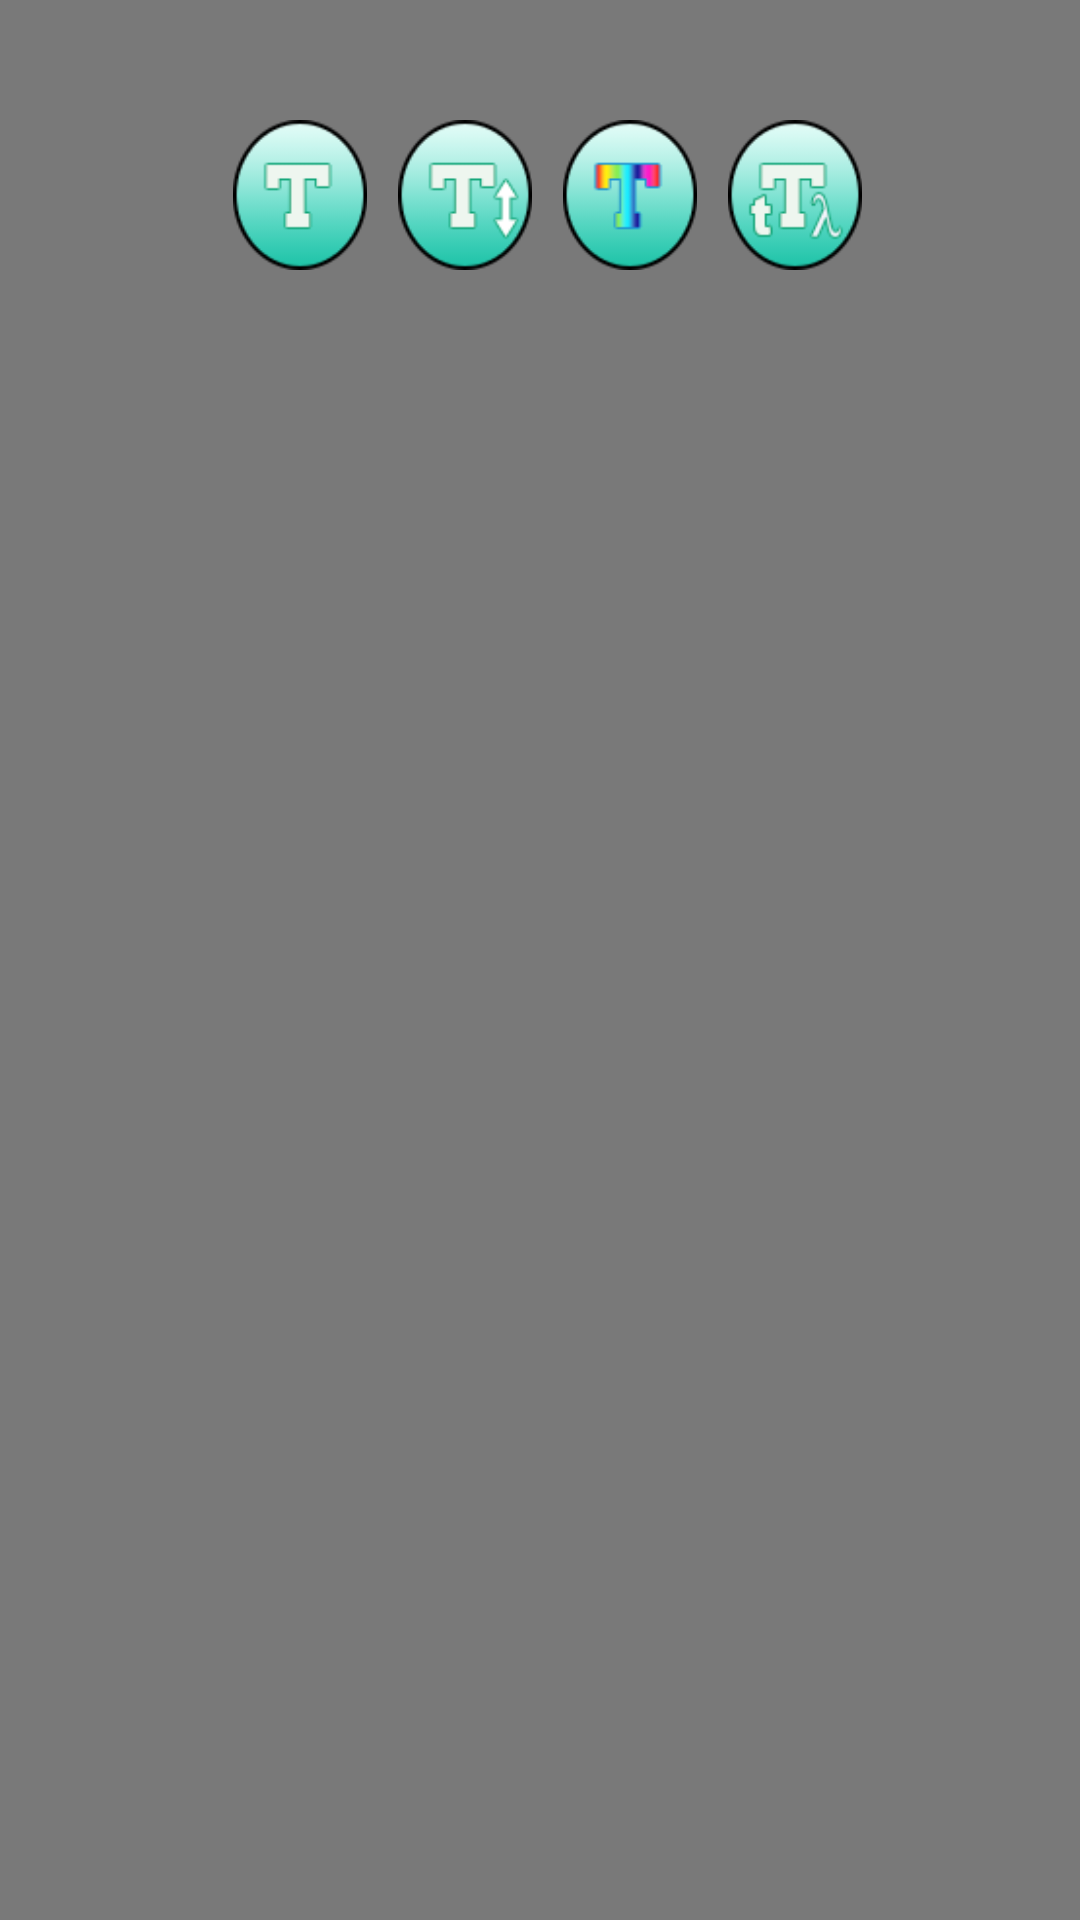

Screen size 1080px x 1920px. Icon name, then its center in pixels as [x,y]:
tcolor: [630,195]
text: [300,195]
tsize: [465,195]
tstyle: [795,195]
